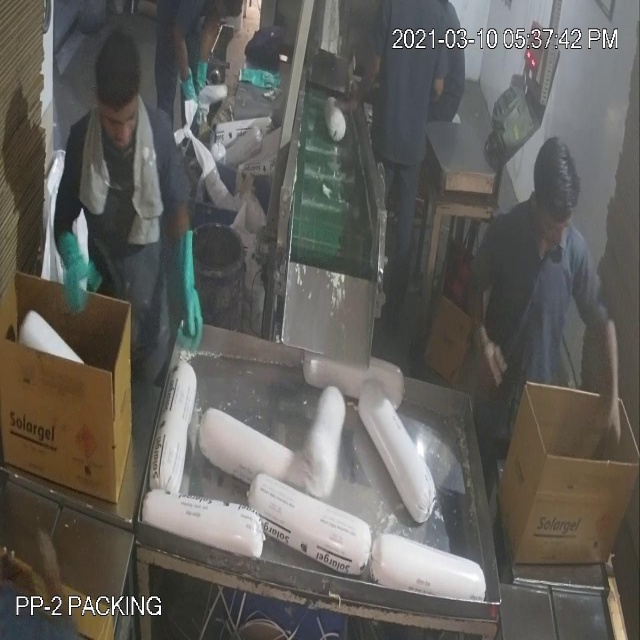Sin_guantes: (588, 288, 628, 467), (464, 261, 509, 404)
